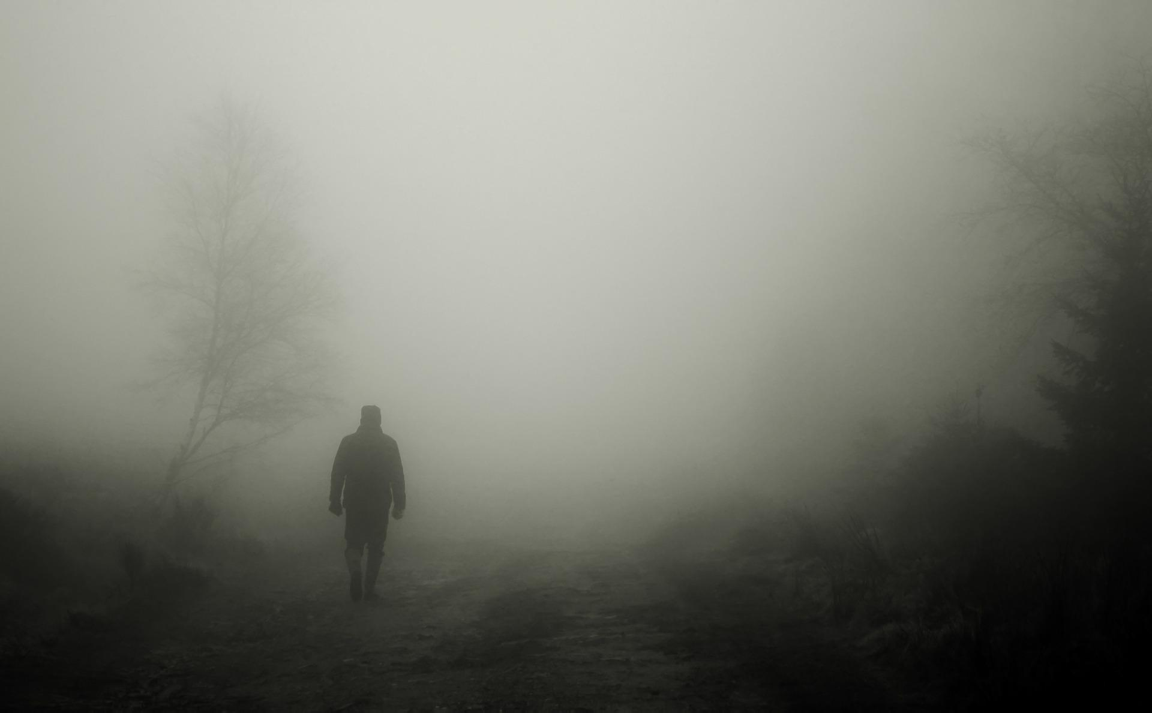person: (325, 404, 410, 607)
